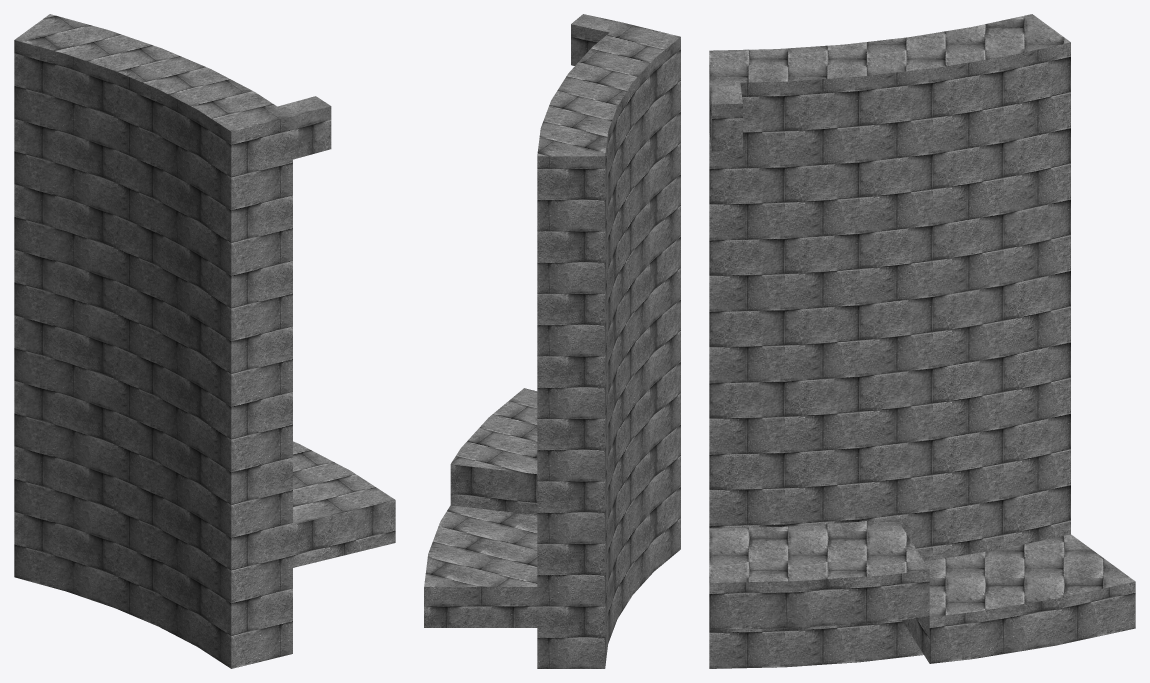
Rendered from tile4.dae.
3 views of the same model, side by side, from view 1: azimuth 30°, elevation 25°; view 2: azimuth 150°, elevation 25°; view 3: azimuth 270°, elevation 25° (orthographic). The views are drawn at different scales.
Parts seen in each view (by area): view 1: SketchUp; view 2: SketchUp; view 3: SketchUp.
Part boxes in pixels (x1,y1,x2,y2): SketchUp: (14,14,395,668); SketchUp: (424,14,680,668); SketchUp: (709,14,1135,668).
Size of the model in its own units: 44.68 by 64.96 by 98.43.
Materials: 1 (1 with a texture image).
